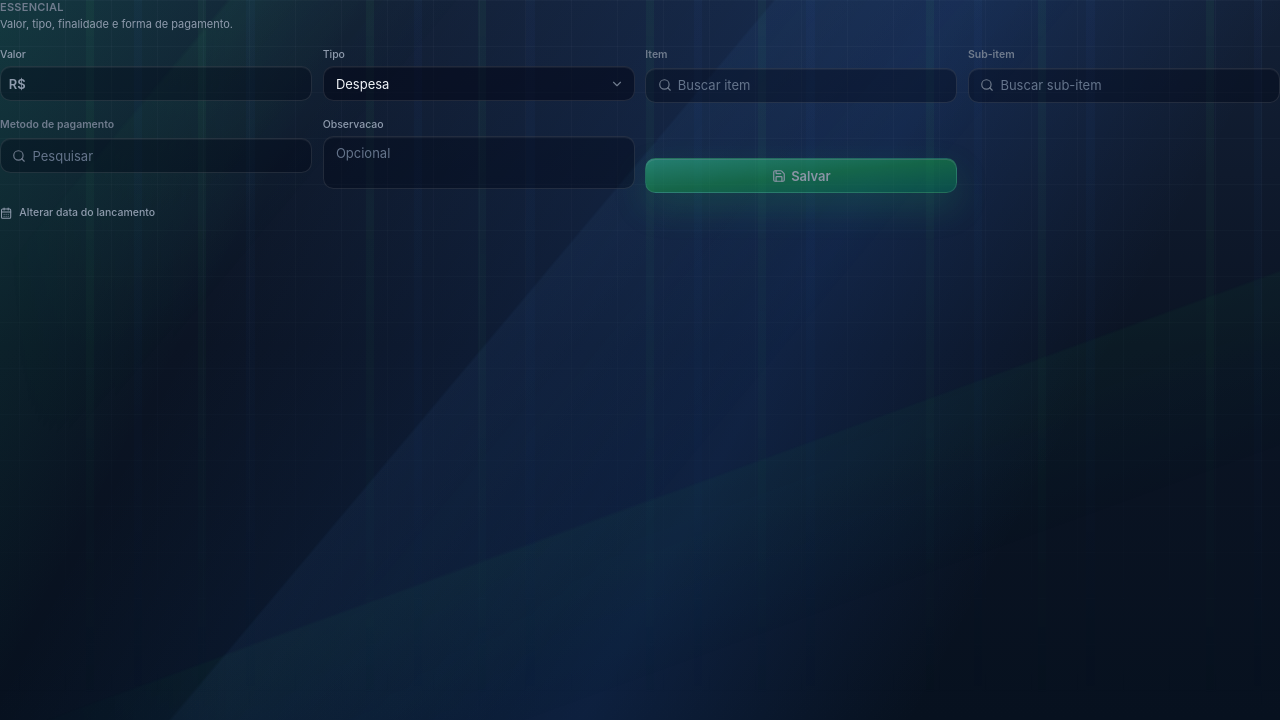
LancamentoForm item e sub-item › lista itens e sub-itens reais do formulario
The width and height of the screenshot is (1280, 720).
Focus the field labelled "sub-item" at (1124, 85), box [968,68,1279,103]
(page scrolled)
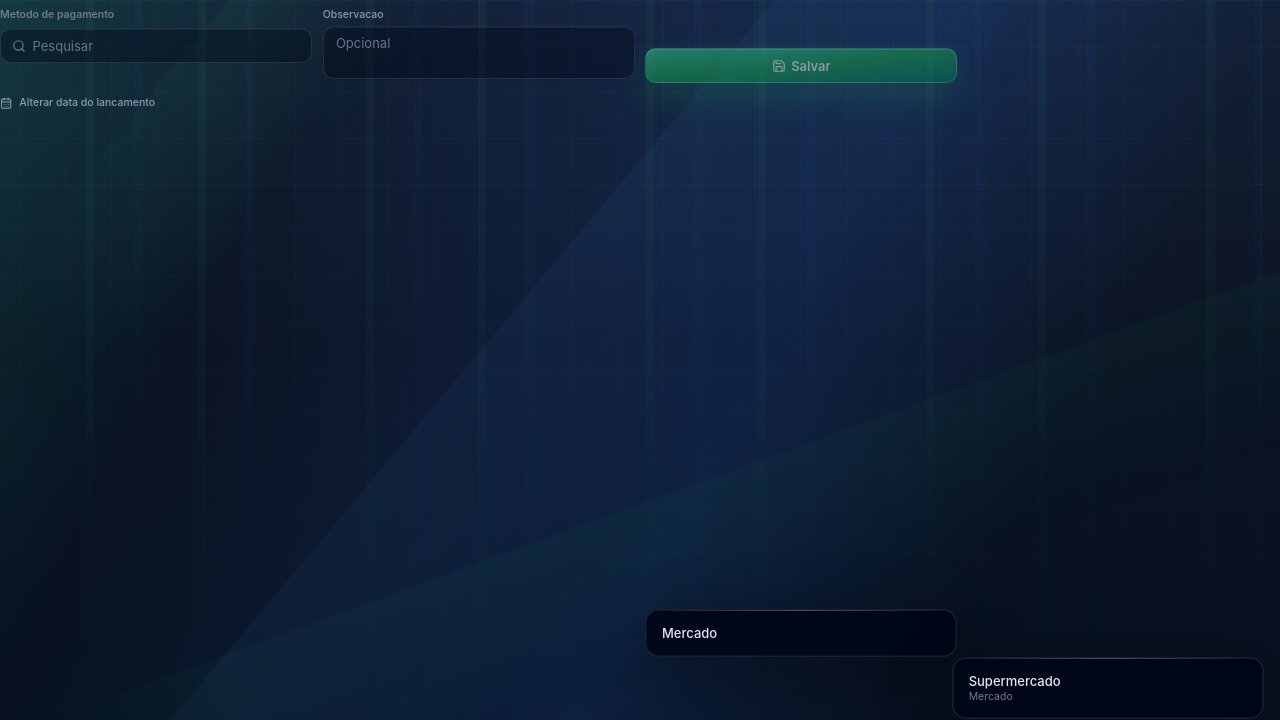
Expected: the text "Supermercado" is shown, [969,672,1061,690]
